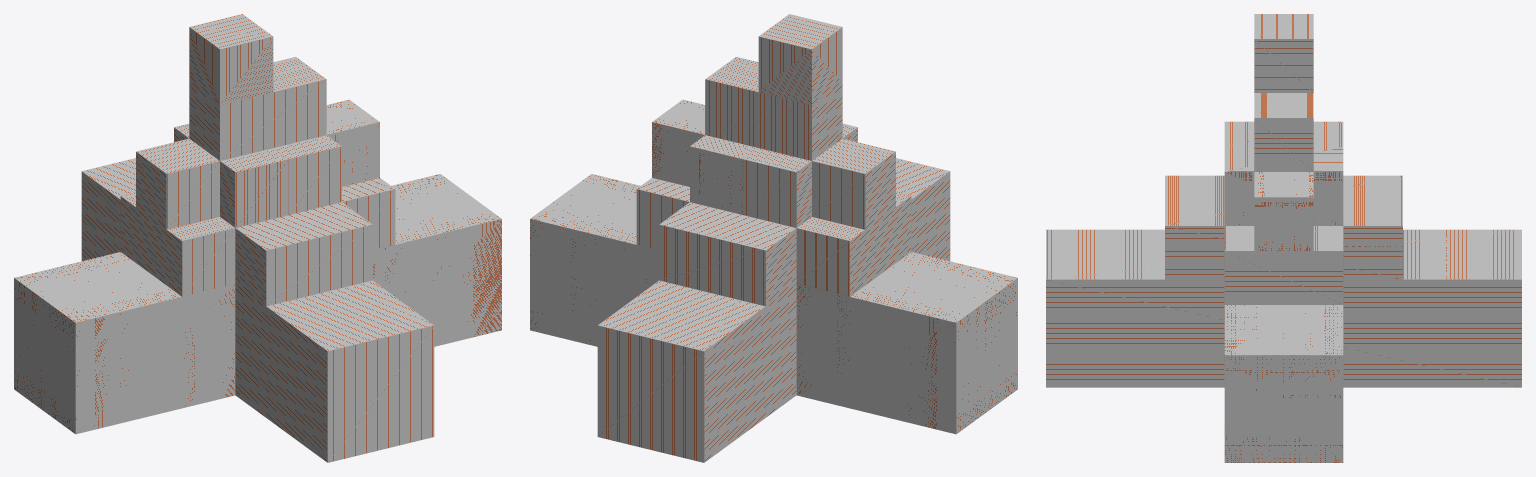
File: campfire.fbx
3 views of the same model, side by side, from view 1: azimuth 30°, elevation 25°; view 2: azimuth 150°, elevation 25°; view 3: azimuth 270°, elevation 25° (orthographic). The views are drawn at different scales.
Visible parts, largest first — view 1: generated; view 2: generated; view 3: generated.
Part boxes in pixels (x1=…): generated: x1=14, y1=14, x2=501, y2=462; generated: x1=530, y1=14, x2=1017, y2=462; generated: x1=1046, y1=14, x2=1521, y2=462.
Size of the model in its own units: 80 by 60 by 80.
1 material, 1 textured.
